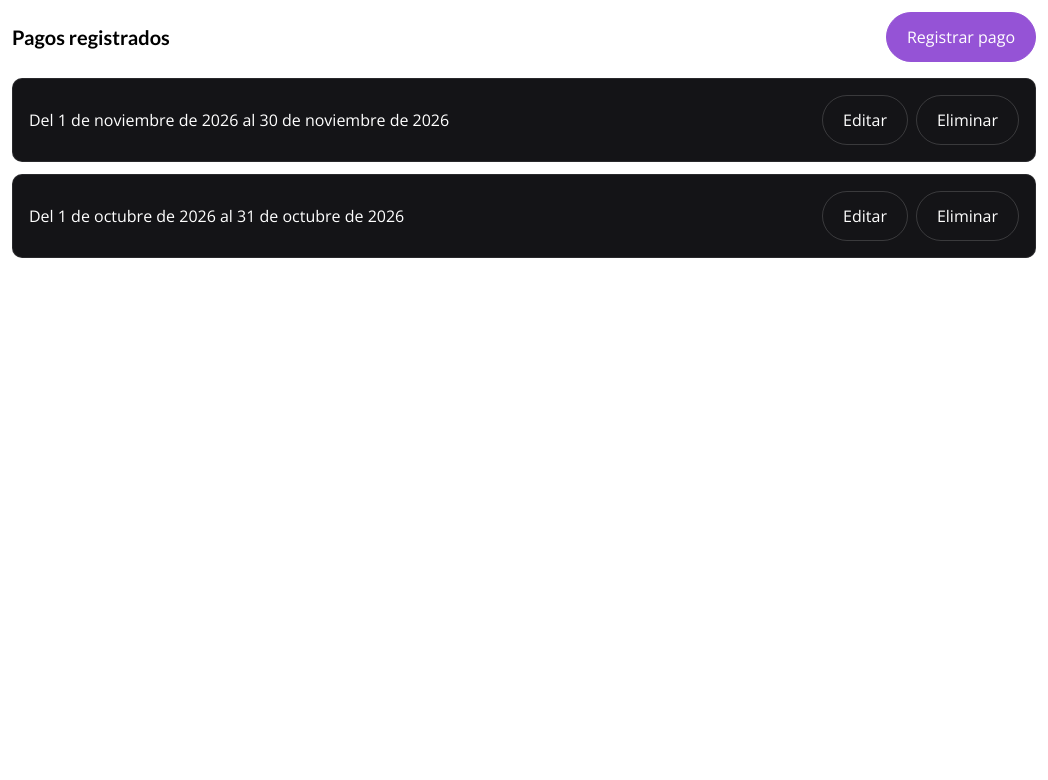
Test case: MemberPeriods › recording a payment › reads the member again after it worked, then closes the form and gives the focus back
The image size is (1048, 780).
Step 1. Click the button "Registrar pago" → (961, 37), box [886,12,1036,62]
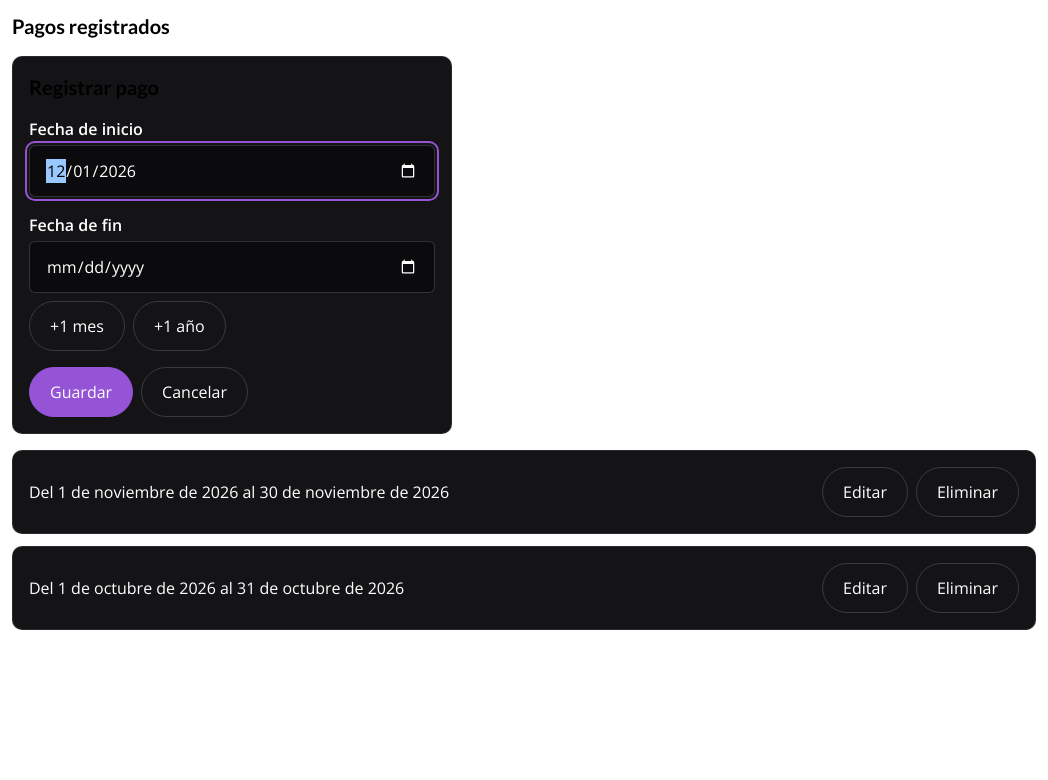
Step 2. Type "2026-12-31" into the date field labelled "Fecha de fin" → (232, 267), box [29,241,435,293]
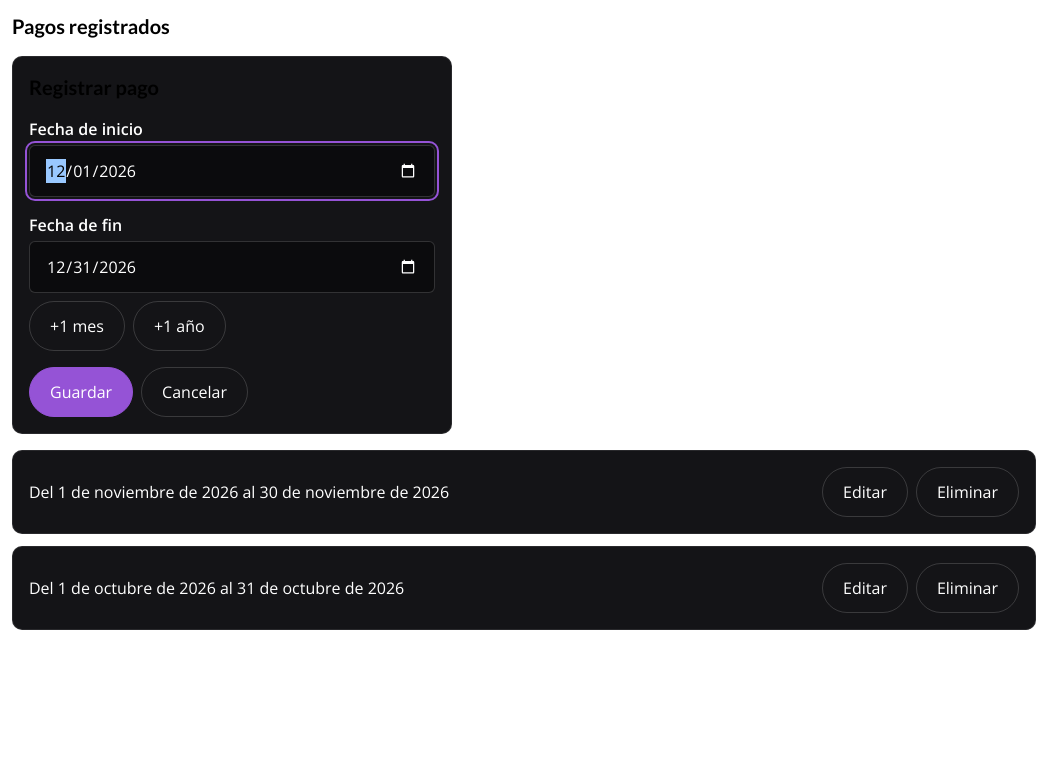
Step 3. Click the button "Guardar" → (81, 392), box [29,367,133,417]
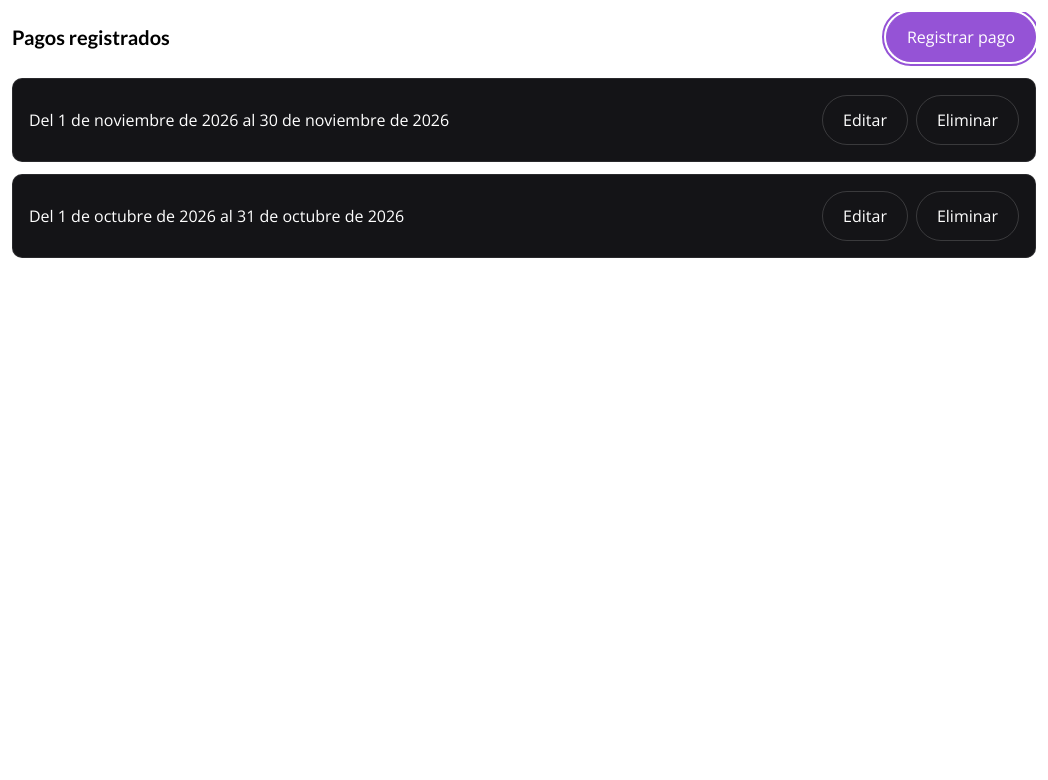
Expected: the form is gone
